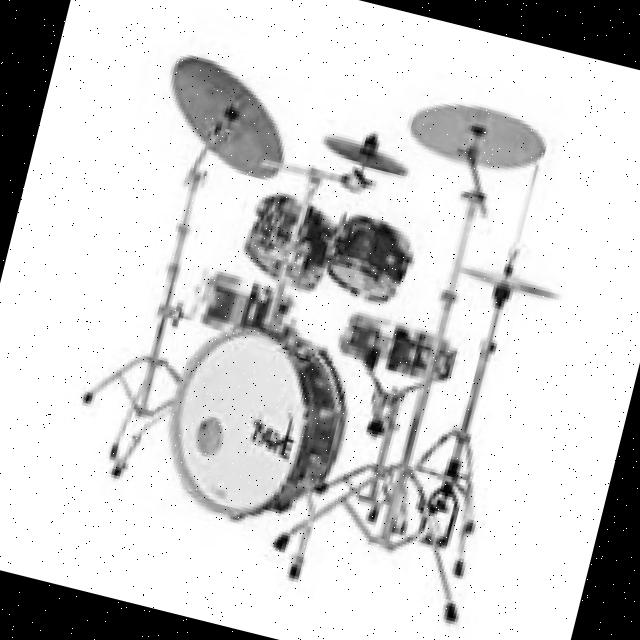drums: (55, 34, 586, 636)
